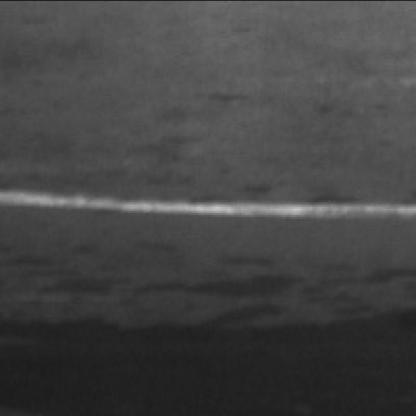inclusion: (8, 260, 416, 410)
scratches: (4, 181, 416, 223)
